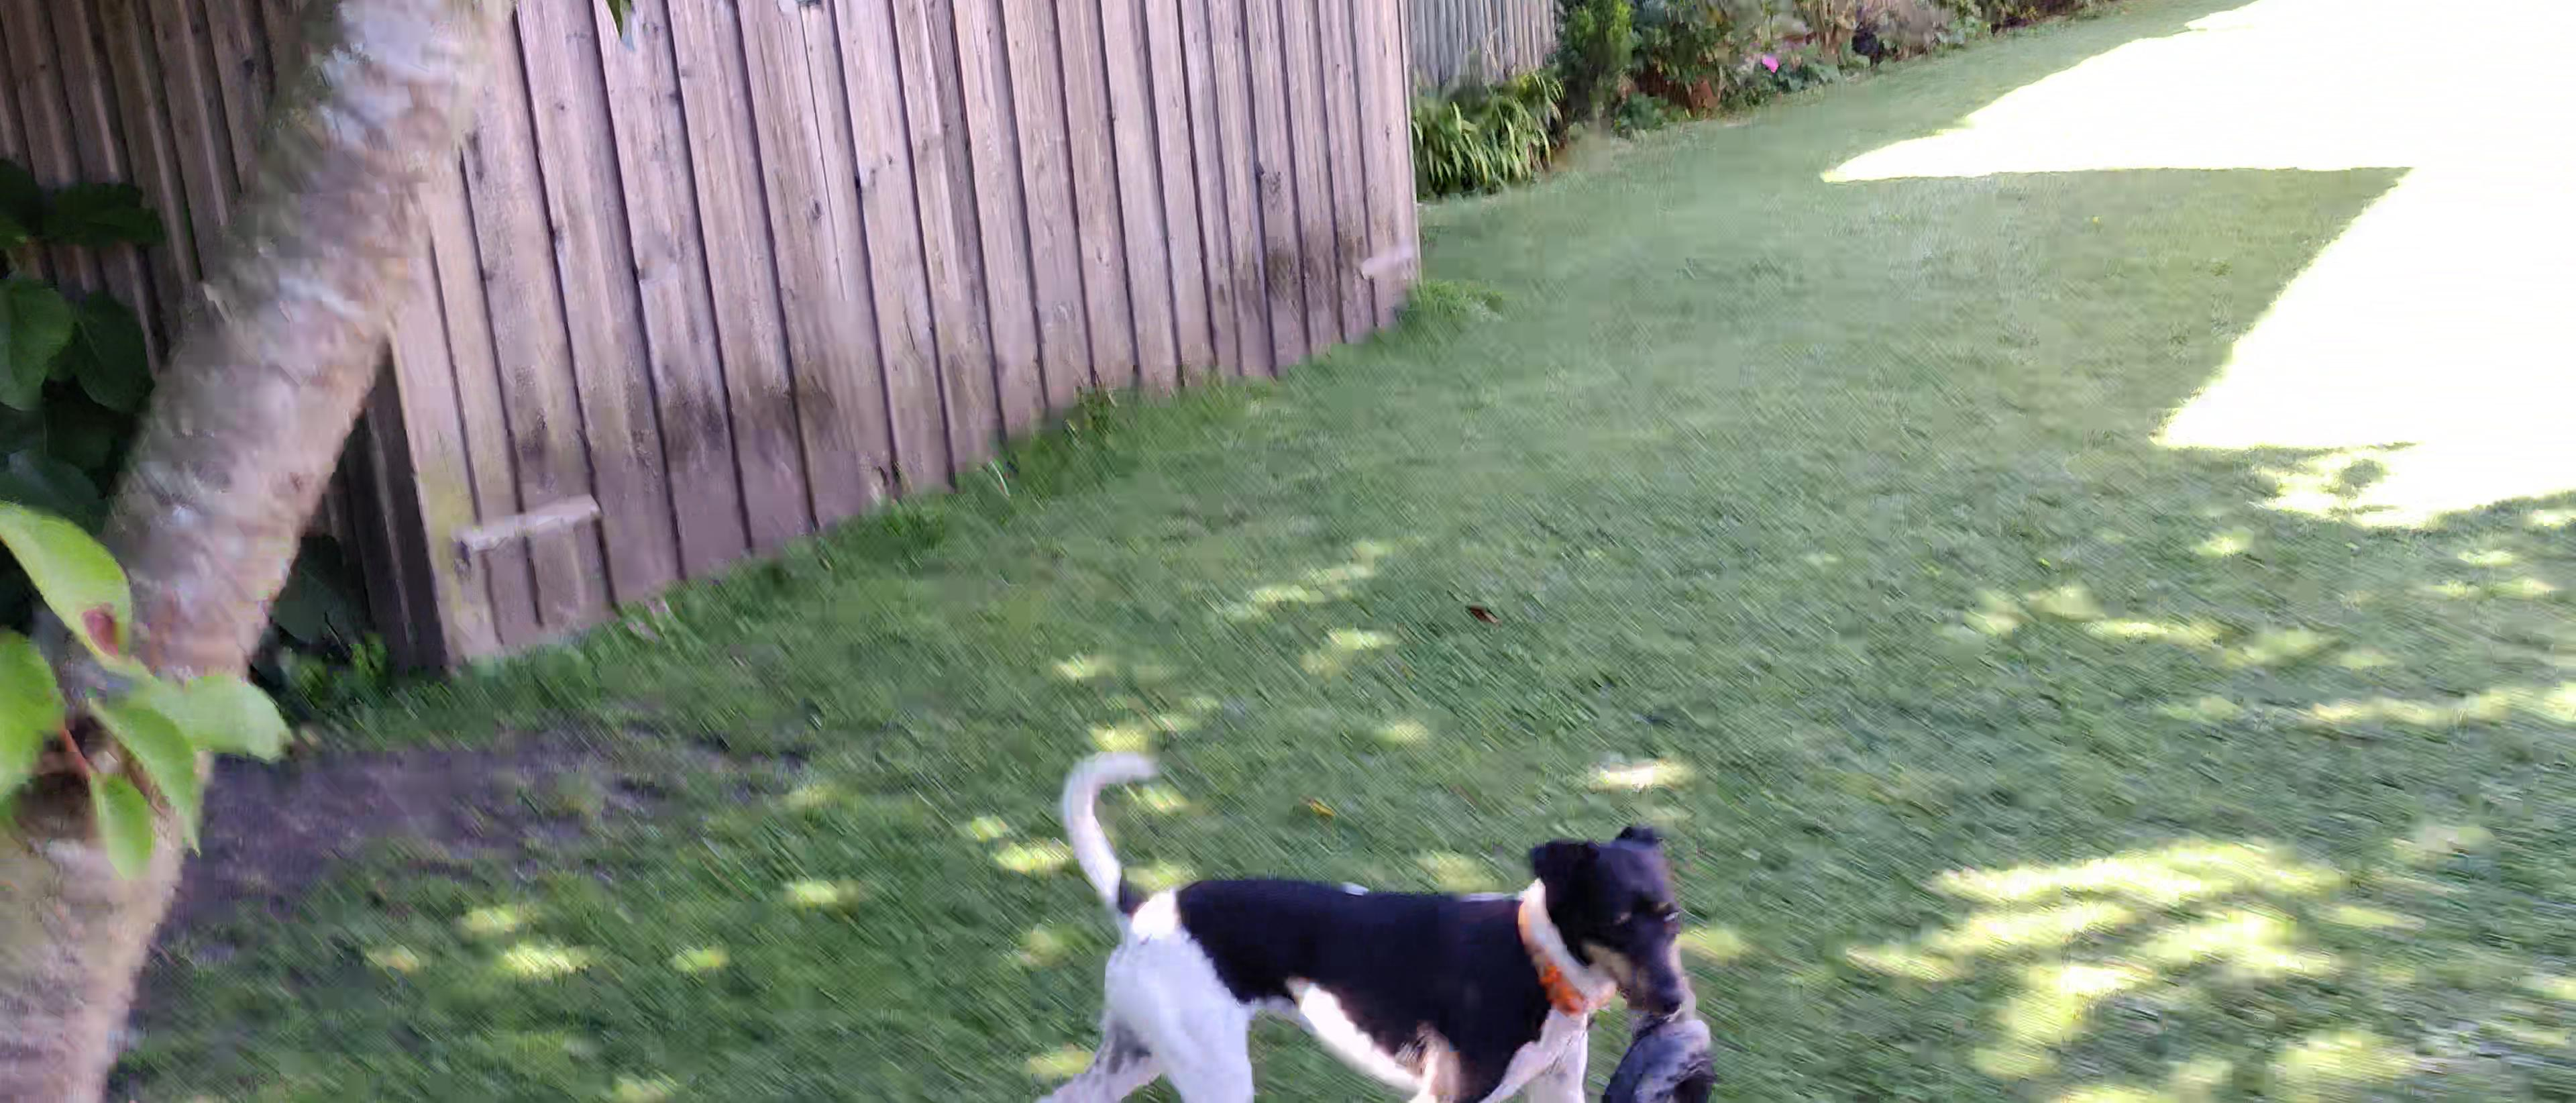Dog: (1027, 738, 1689, 1103)
